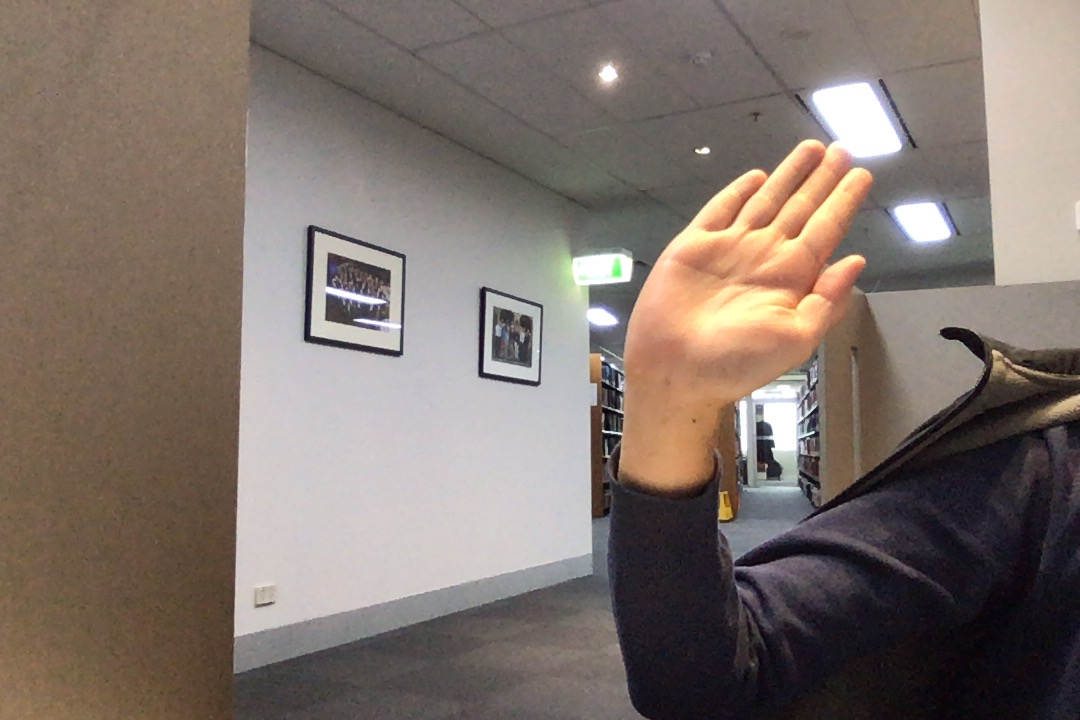palmhand: (615, 131, 878, 402)
